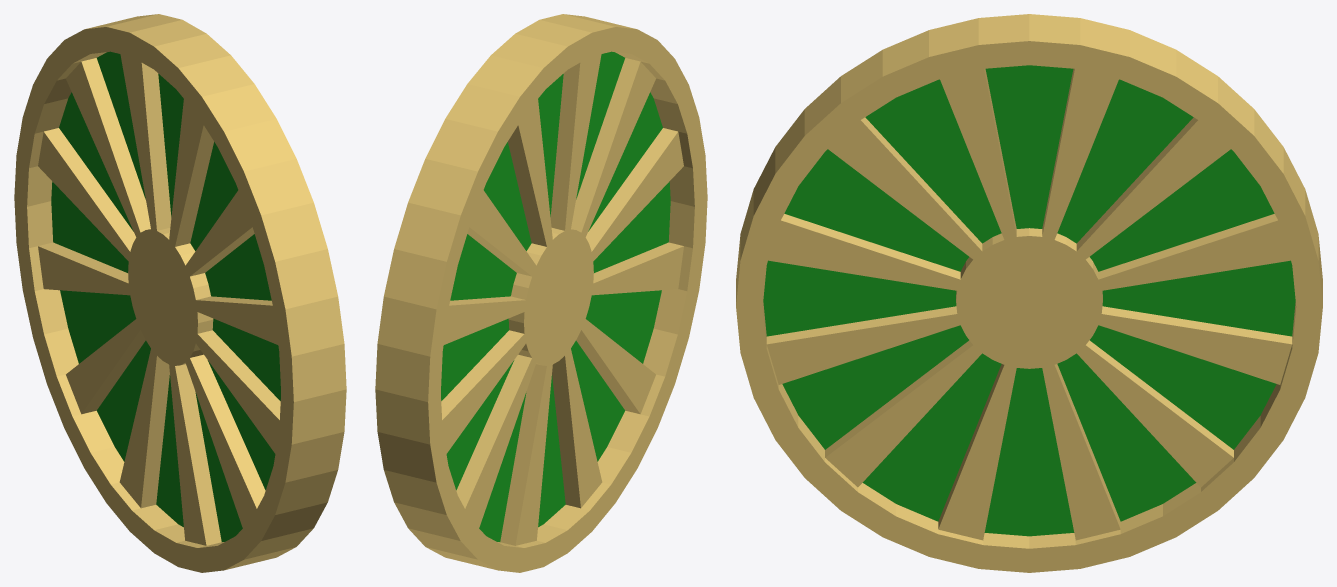
The picture shows the model from 3 angles, left to right: view 1: azimuth 30°, elevation 25°; view 2: azimuth 150°, elevation 25°; view 3: azimuth 270°, elevation 25°; orthographic projection. The views are drawn at different scales.
Parts seen in each view (by area): view 1: 50; view 2: 50; view 3: 50.
Boxes of the visible parts, x1,y1,x2,y2 form: 50: (14, 14, 346, 572); 50: (375, 14, 707, 572); 50: (736, 14, 1322, 572).
Size of the model in its own units: 21.8 by 200 by 200.
